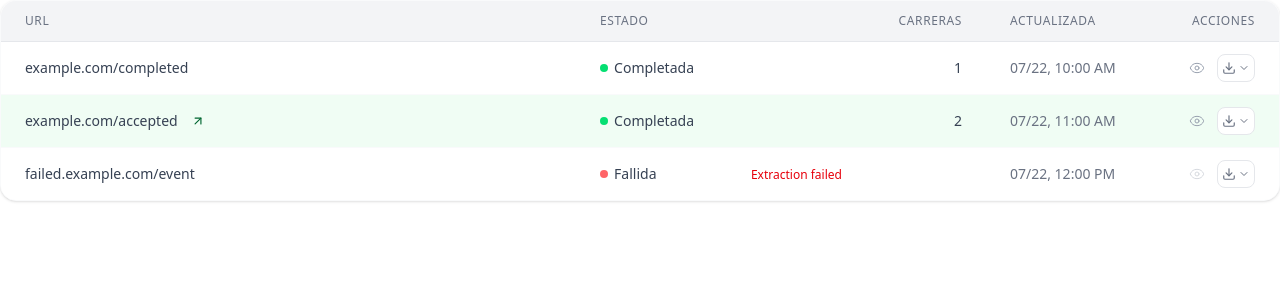
Test case: BulkProcessTable › disables only downloads whose stored content is unavailable
Click the button named "Acciones" in the row of "failed.example.com/event" at (1236, 174), box [1217,160,1255,188]
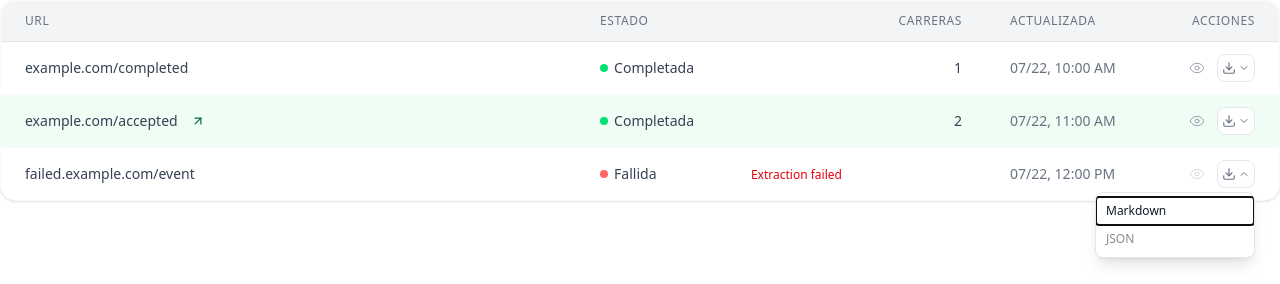
Result: the menu item "Markdown" is enabled at [1096,197,1254,225]
Result: the menu item "JSON" is disabled at [1096,225,1254,253]
